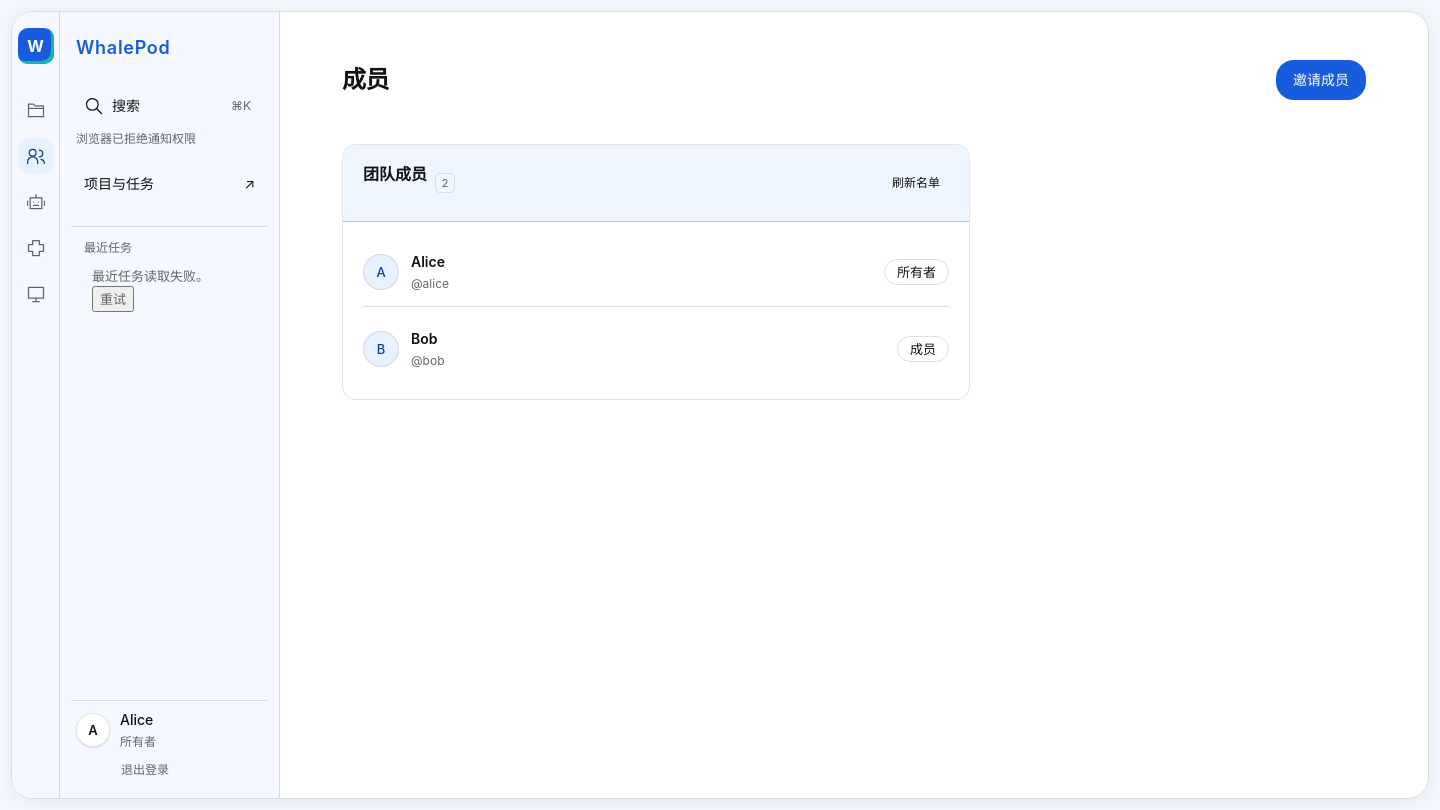
members-page › #152 角色徽标是中文，且与角色下拉同一套措辞（不再是 Owner vs Member）
Expected: the list with class "member-list" is shown, [363, 238, 949, 383]
Click the button "邀请成员". click: (1321, 80)
box: [1276, 60, 1366, 100]
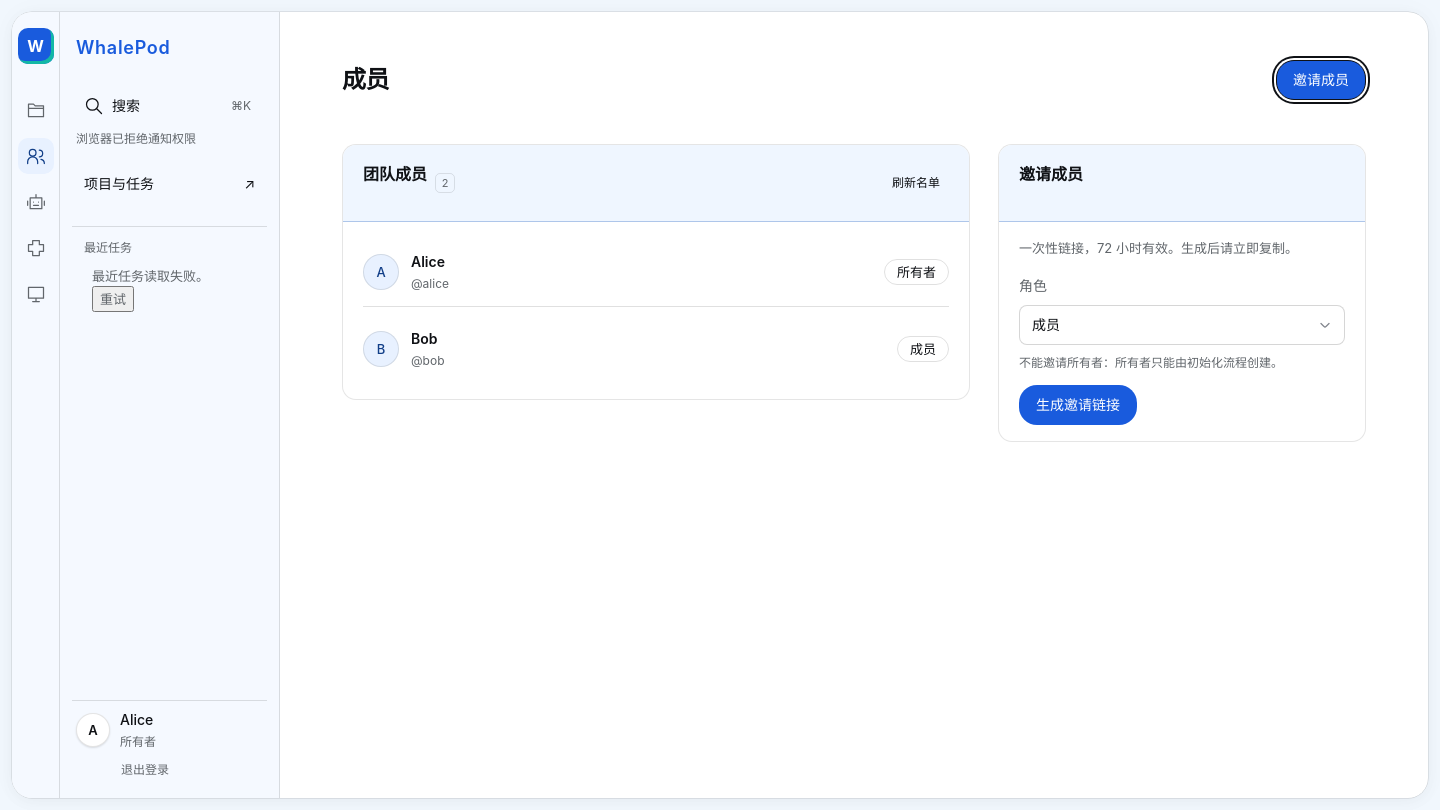
Click the button named "角色". click: (1046, 325)
box: [1019, 305, 1345, 345]
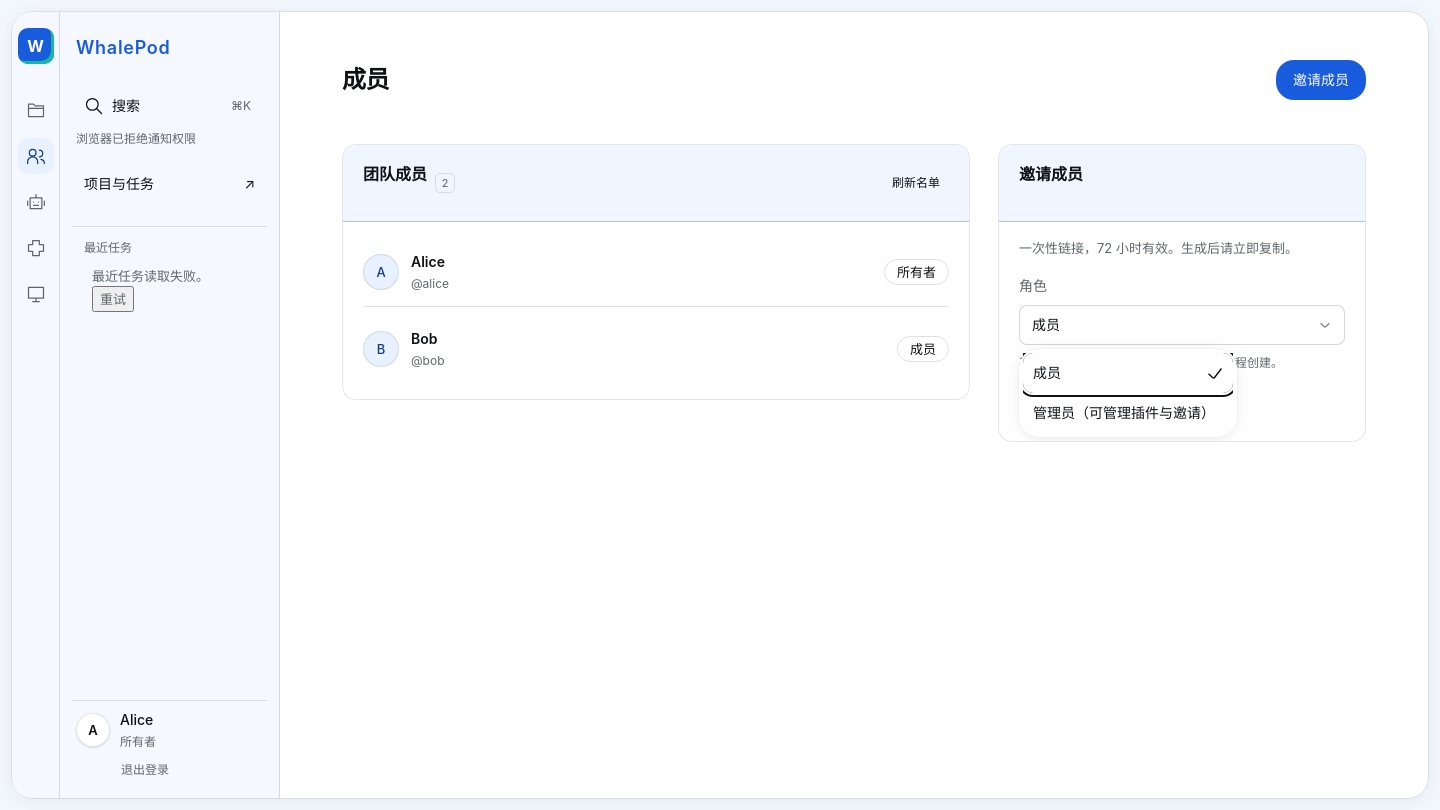
Expected: the menu item "成员" is shown, [1023, 353, 1233, 393]
Expected: the menu item "管理员（可管理插件与邀请）" is shown, [1023, 393, 1233, 433]
